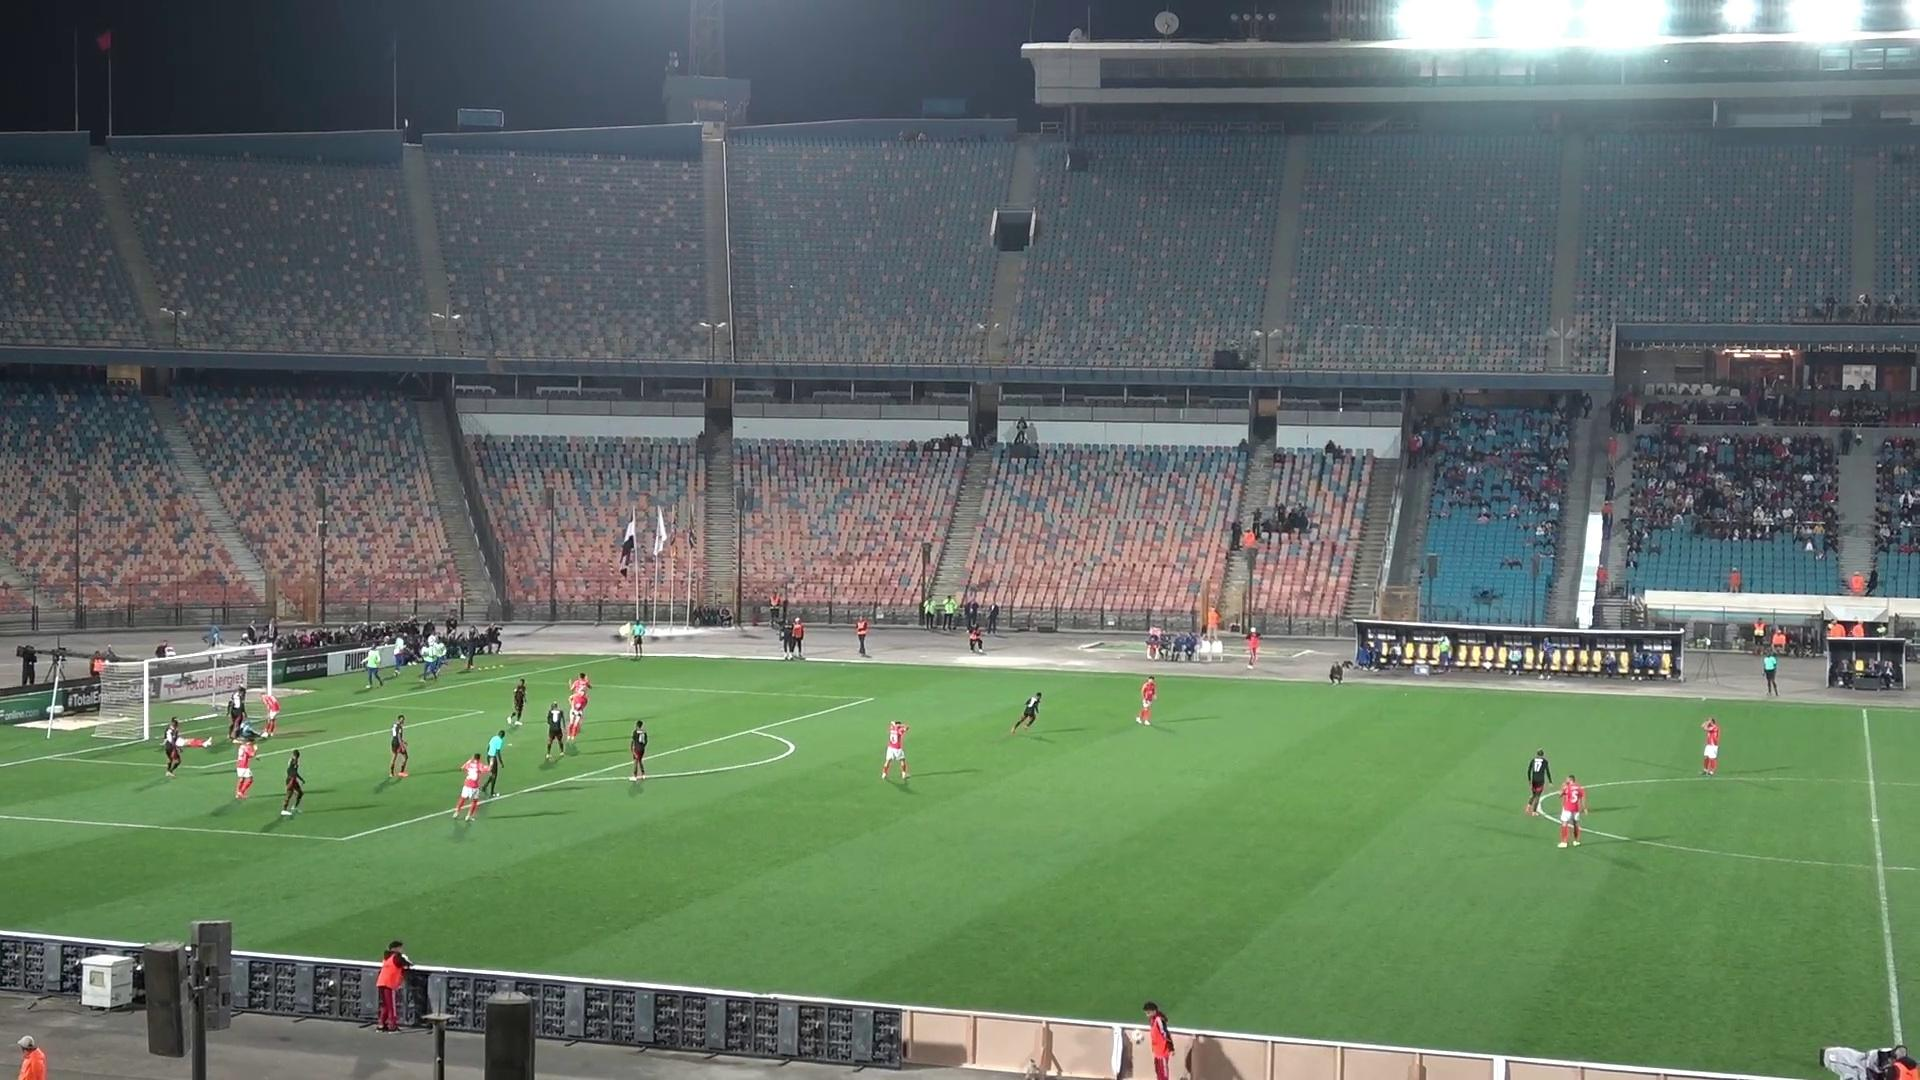Refree: (483, 728, 506, 796), (1762, 647, 1779, 696), (628, 618, 647, 658)
Team1: (451, 752, 498, 820), (1549, 775, 1586, 848), (551, 671, 591, 724), (564, 673, 589, 745), (881, 720, 909, 781), (233, 738, 258, 800), (253, 687, 281, 736), (1700, 716, 1721, 775), (1135, 676, 1156, 725), (1528, 795, 1549, 816)
Team2: (161, 717, 210, 777), (1524, 748, 1553, 816), (222, 690, 258, 740), (280, 749, 305, 816), (386, 715, 409, 779), (628, 717, 650, 781), (543, 702, 566, 764), (1009, 694, 1042, 732), (505, 676, 529, 727)
